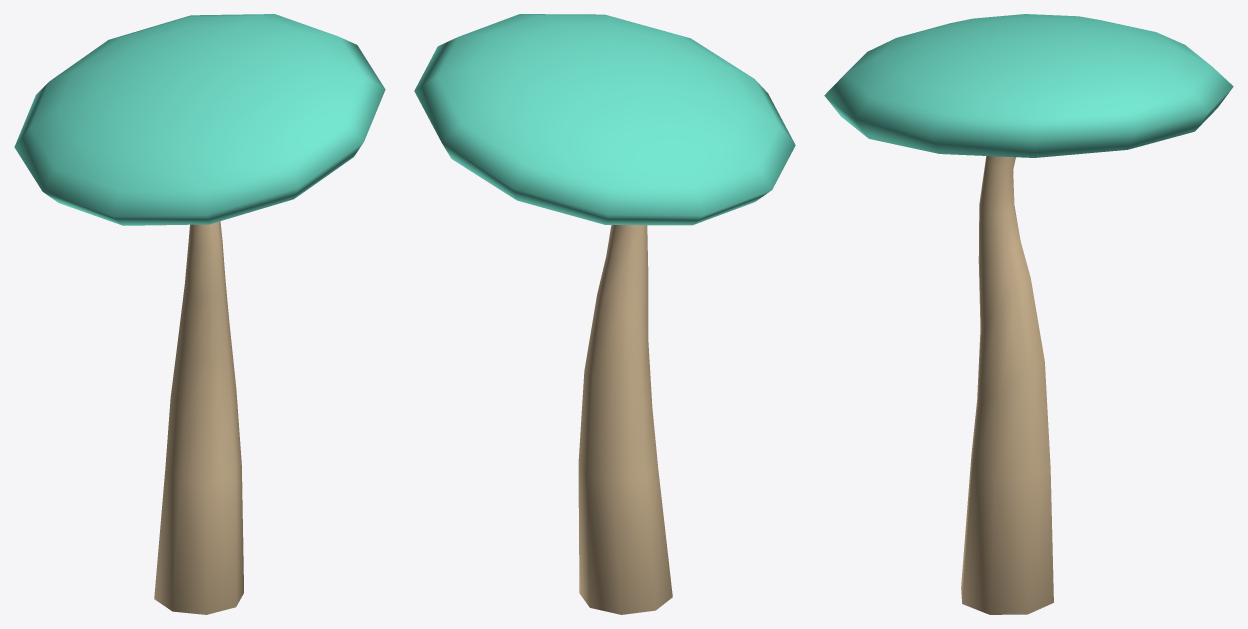
The model's file is ShroomFloor_3.fbx.
3 views of the same model, side by side, from view 1: azimuth 30°, elevation 25°; view 2: azimuth 150°, elevation 25°; view 3: azimuth 270°, elevation 25° (orthographic). The views are drawn at different scales.
Parts seen in each view (by area): view 1: ShroomFloor_3; view 2: ShroomFloor_3; view 3: ShroomFloor_3.
Part boxes in pixels (x1,y1,x2,y2): ShroomFloor_3: (14,14,385,614); ShroomFloor_3: (414,14,795,614); ShroomFloor_3: (824,14,1233,614).
Size of the model in its own units: 380 by 599 by 386.
